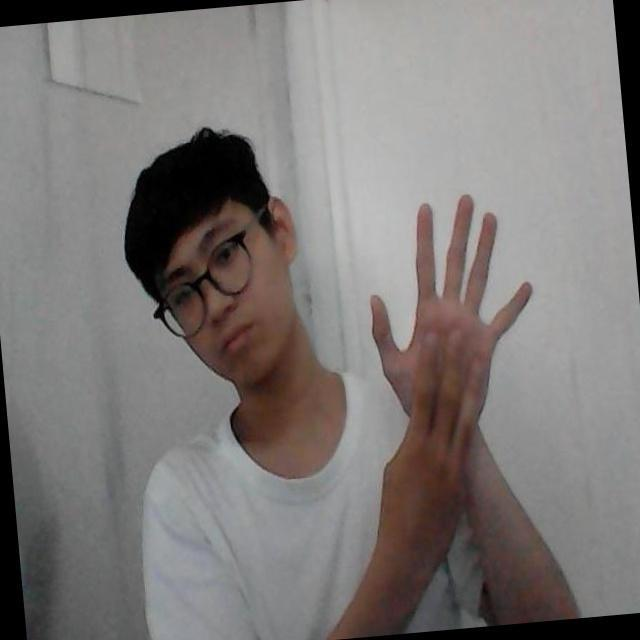M: (350, 182, 538, 452)
